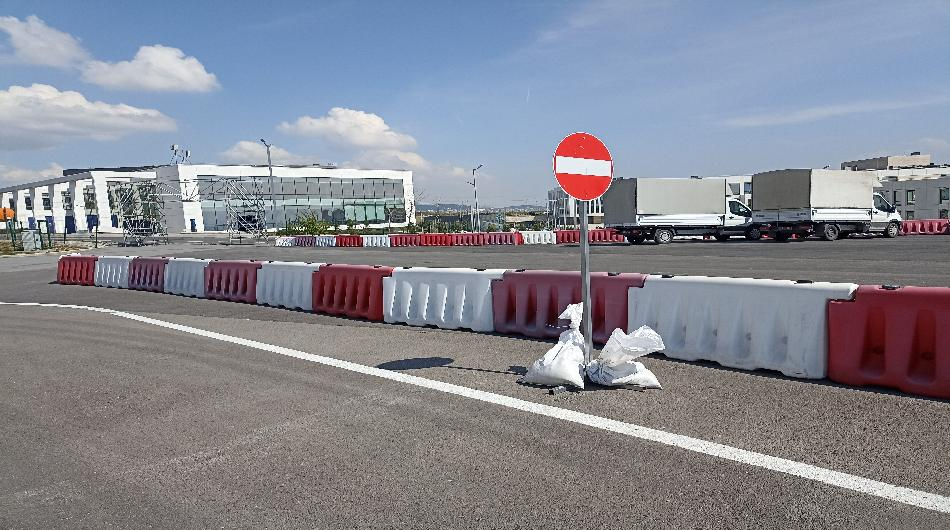girilmez: (551, 130, 612, 202)
